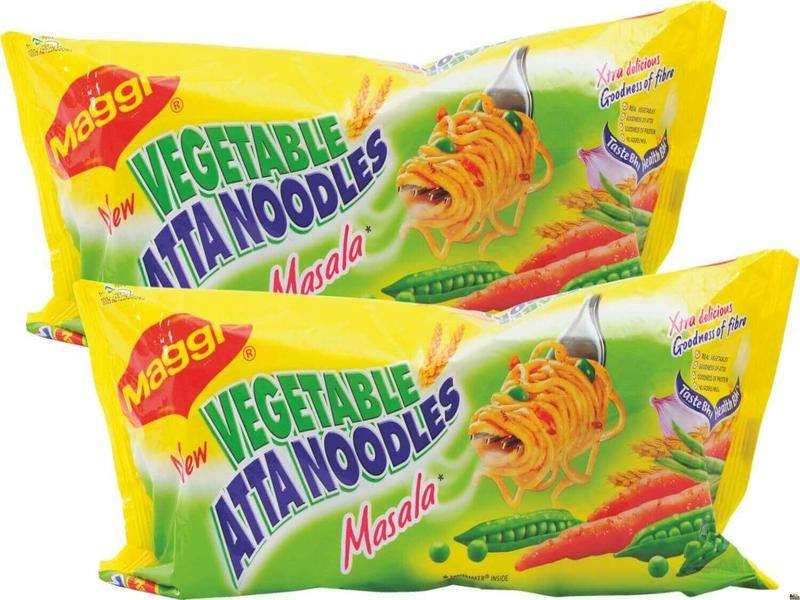maggi-family: (73, 269, 791, 600), (6, 19, 720, 308)
